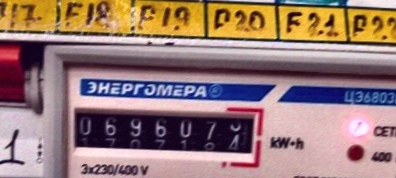0: (177, 117, 193, 139), (77, 115, 92, 136)
4: (226, 132, 240, 153)
6: (102, 115, 117, 137), (152, 117, 167, 138)
7: (202, 120, 218, 141)
9: (127, 116, 141, 138)
screen: (59, 97, 267, 166)
